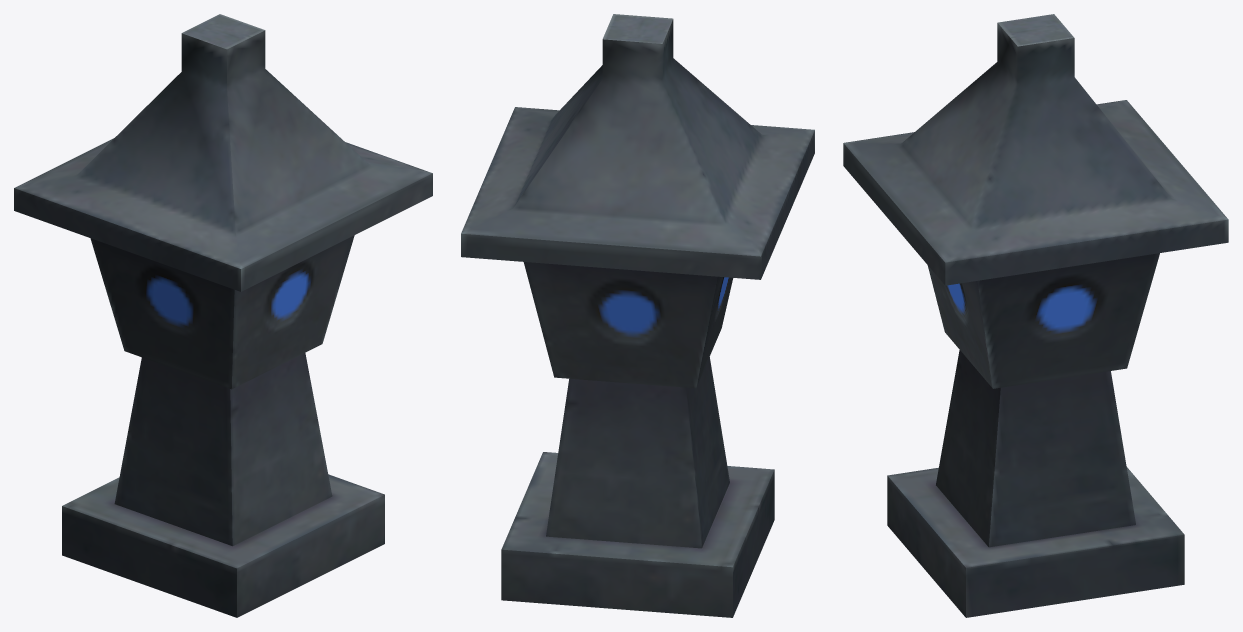
Rendered from Area_02_7.fbx.
The picture shows the model from 3 angles, left to right: view 1: azimuth 30°, elevation 25°; view 2: azimuth 150°, elevation 25°; view 3: azimuth 270°, elevation 25°; orthographic projection. The views are drawn at different scales.
Parts seen in each view (by area): view 1: Area_02_7; view 2: Area_02_7; view 3: Area_02_7.
Part boxes in pixels (x1=…): Area_02_7: x1=14, y1=14, x2=432, y2=617; Area_02_7: x1=461, y1=14, x2=814, y2=617; Area_02_7: x1=843, y1=14, x2=1228, y2=617.
Size of the model in its own units: 213 by 320 by 213.
